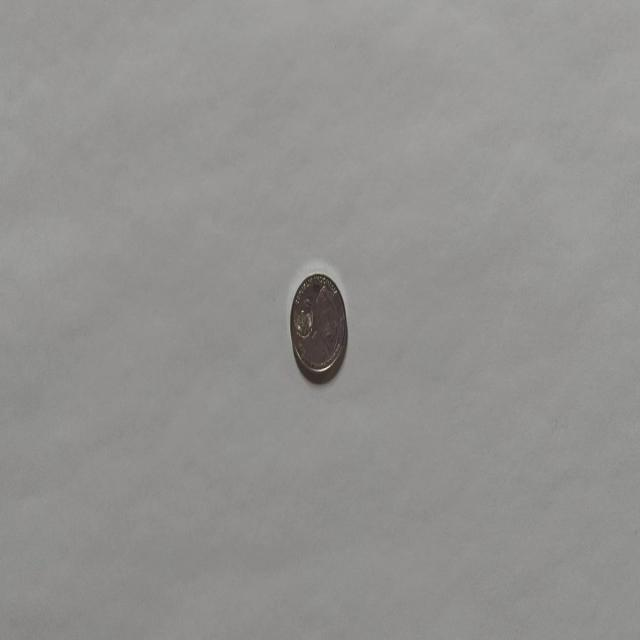dua ratus rupiah: (288, 270, 348, 380)
